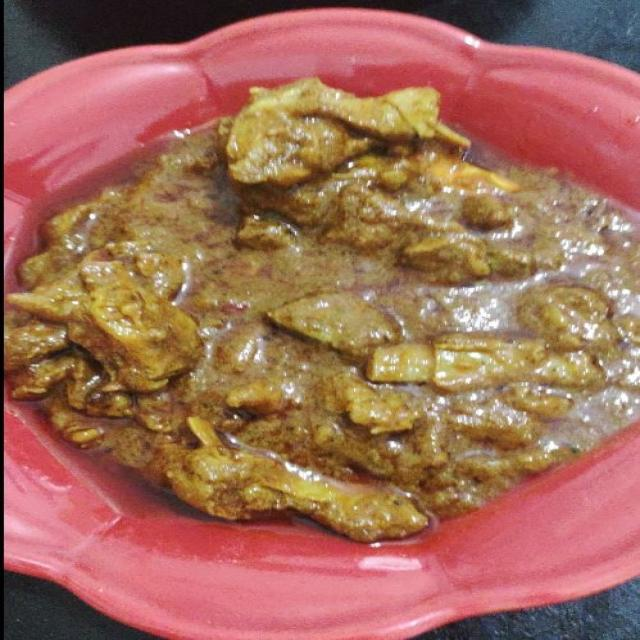kamouniya: (31, 73, 624, 559)
